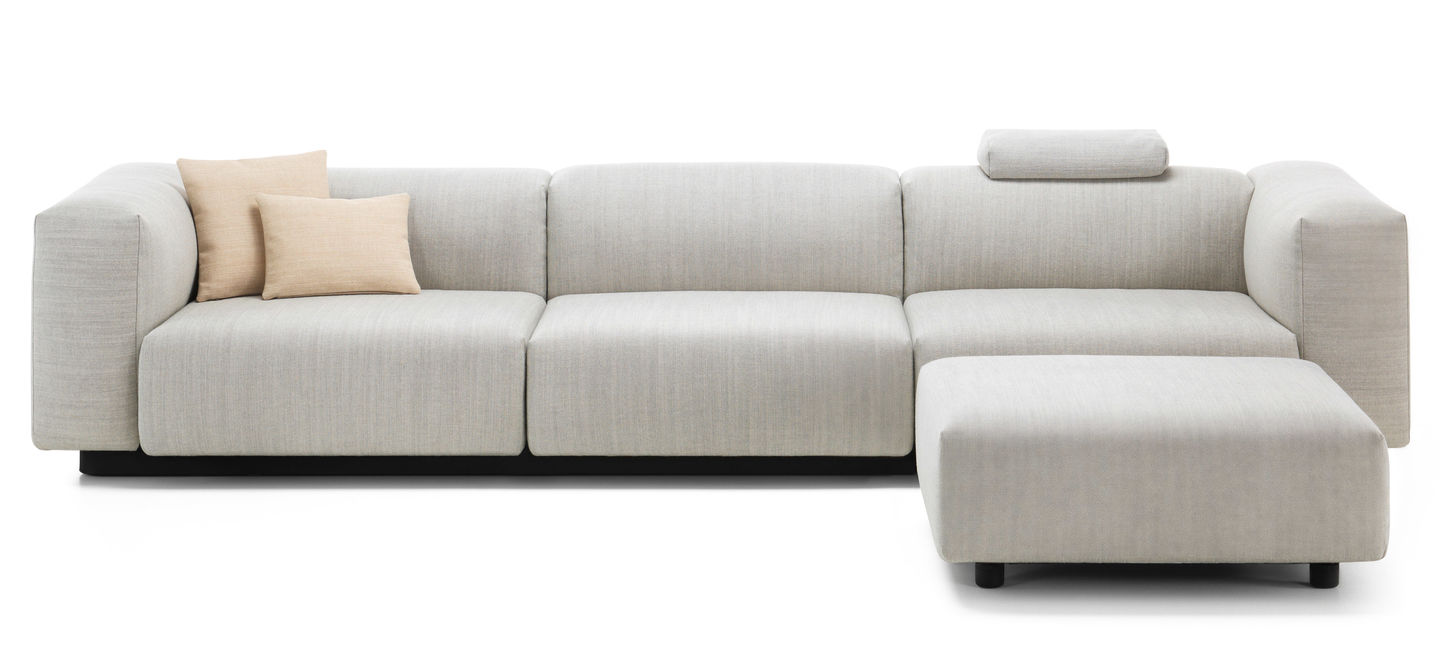chairs: (27, 127, 1417, 598)
